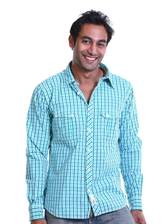clothoes: (22, 59, 146, 217)
